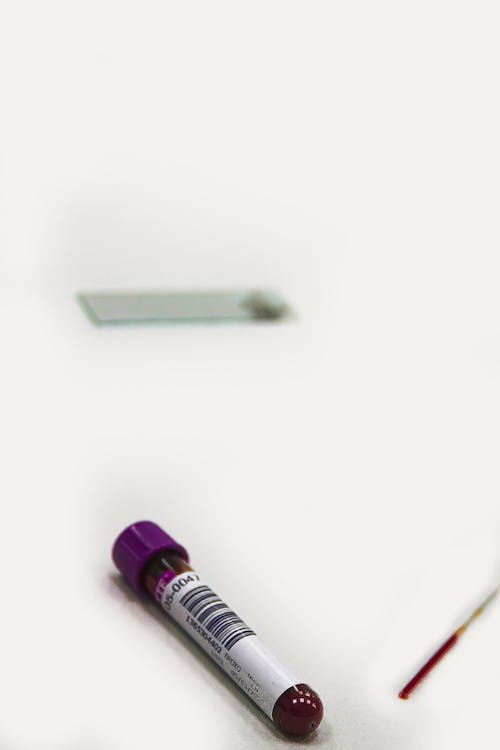blood: (108, 516, 325, 739), (398, 577, 500, 703)
